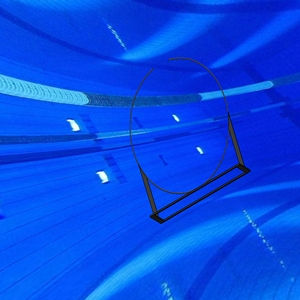circle: (127, 56, 253, 225)
